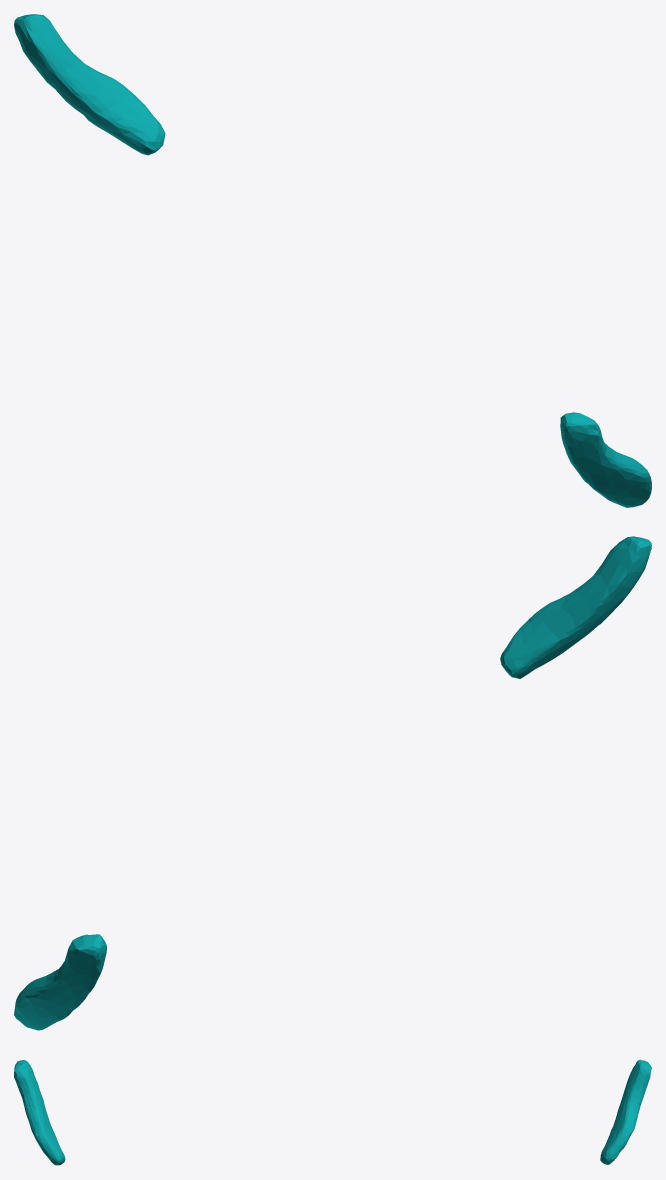
3 renders of one model, top to bottom at view 1: azimuth 30°, elevation 25°; view 2: azimuth 150°, elevation 25°; view 3: azimuth 270°, elevation 25°, orthographic. The views are drawn at different scales.
Parts seen in each view (by area): view 1: 600.obj; view 2: 600.obj; view 3: 600.obj.
Boxes of the visible parts, x1,y1,x2,y2 form: 600.obj: (14, 14, 651, 507); 600.obj: (14, 536, 651, 1030); 600.obj: (14, 1059, 651, 1165).
Bounding box in the file's own units: 1152 × 1303 × 9530.
